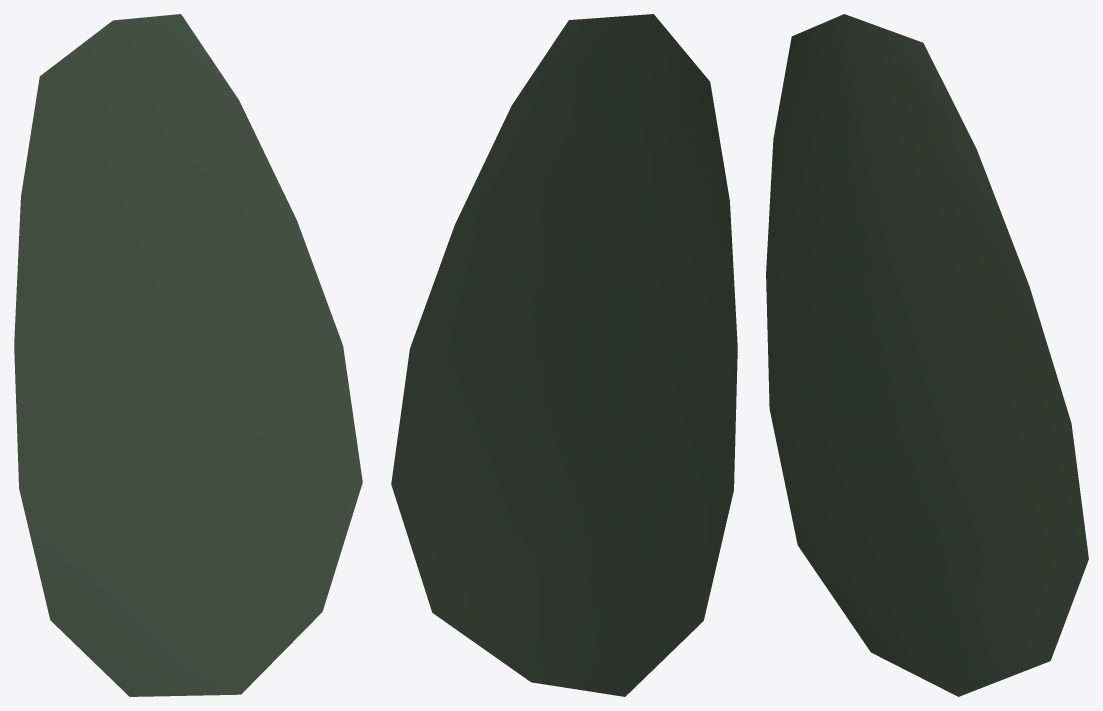
File: duck_feather_flight_tertiary_019.obj
The picture shows the model from 3 angles, left to right: view 1: azimuth 30°, elevation 25°; view 2: azimuth 150°, elevation 25°; view 3: azimuth 330°, elevation 25°; orthographic projection. The views are drawn at different scales.
Parts seen in each view (by area): view 1: feather_flight_tertiary_019; view 2: feather_flight_tertiary_019; view 3: feather_flight_tertiary_019.
Boxes of the visible parts, left/top/right/bottom form: feather_flight_tertiary_019: left=14, top=14, right=362, bottom=696; feather_flight_tertiary_019: left=391, top=14, right=737, bottom=696; feather_flight_tertiary_019: left=766, top=14, right=1088, bottom=696.
Bounding box in the file's own units: 0.0149 × 0.0288 × 0.000817.
